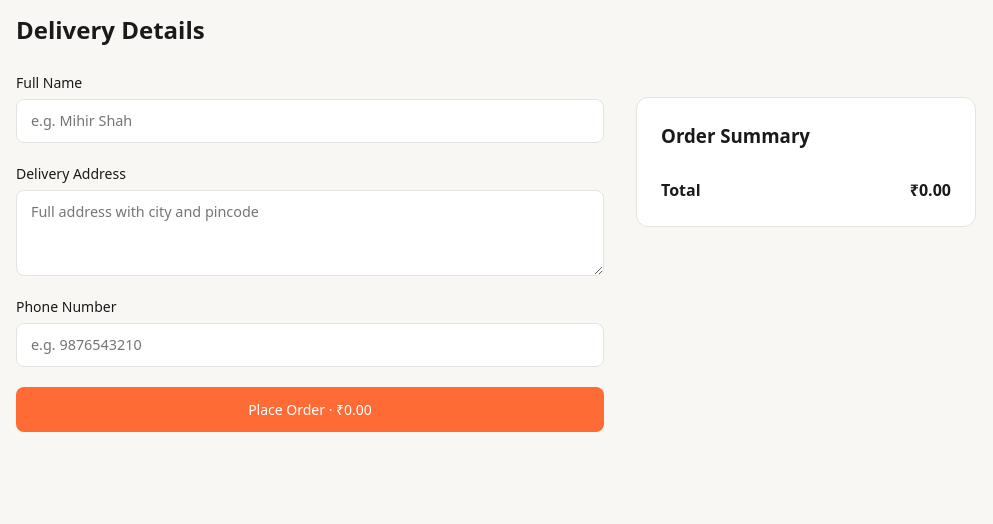
Test: CheckoutForm › shows error for short name
Type "A" into the field labelled "Full Name" at (310, 121), box [16,99,604,143]
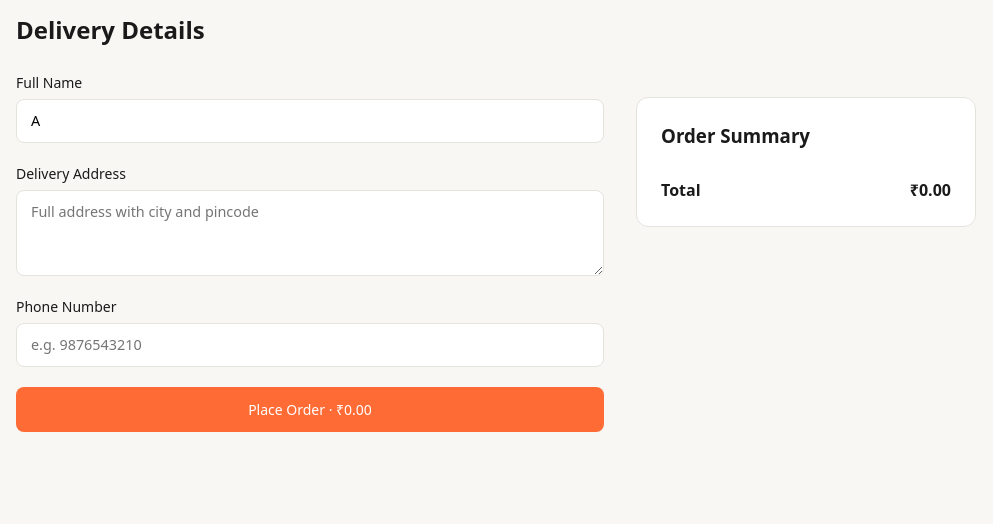
Click the button "Place Order · ₹0.00" at (310, 409), box [16,387,604,432]
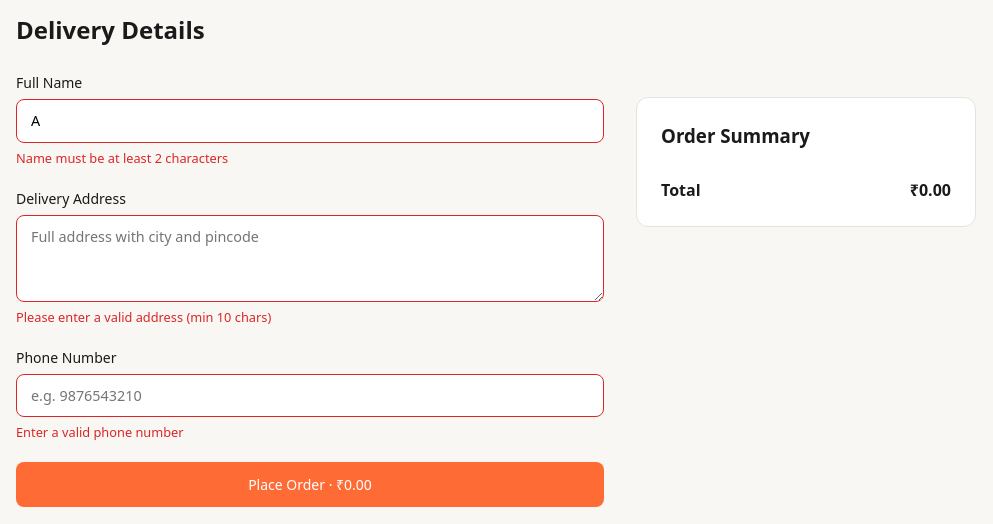
Expected: the text "Name must be at least 2 characters" is shown, [16,149,228,167]
